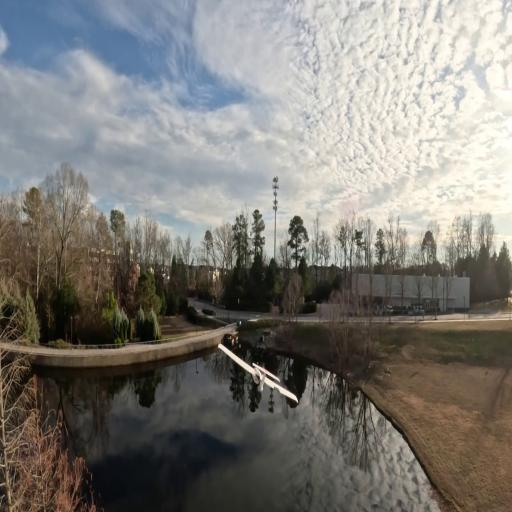uav: (217, 340, 300, 406)
